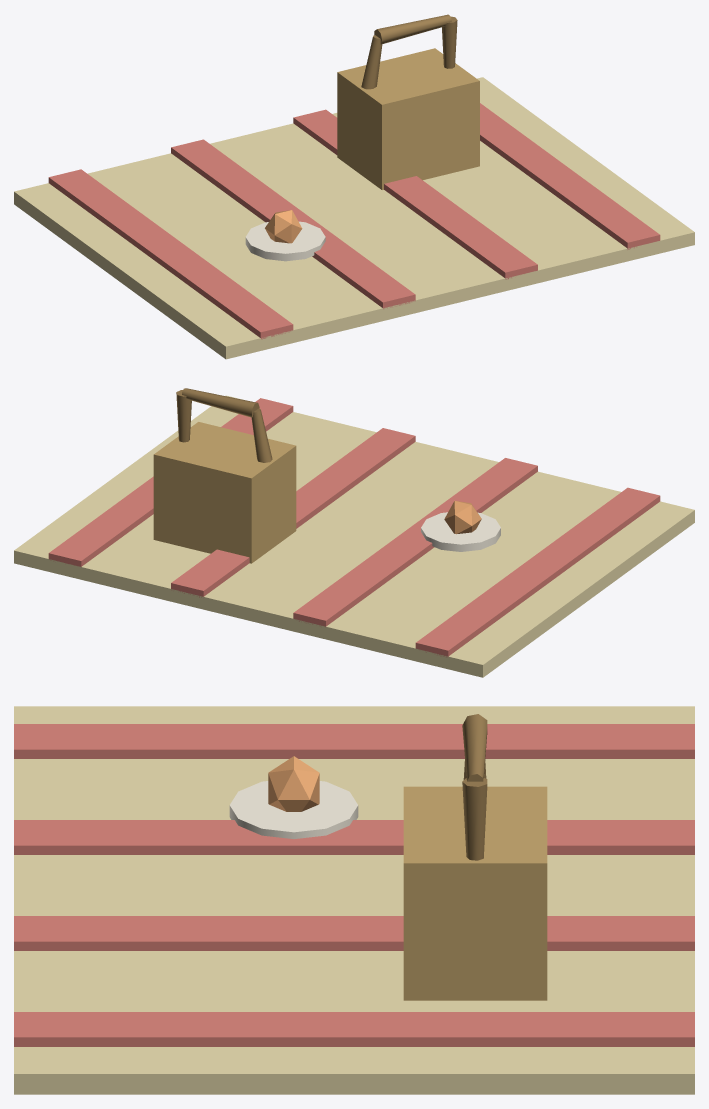
The model's file is ocean-scenery-34.glb.
The picture shows the model from 3 angles, top to bottom: view 1: azimuth 30°, elevation 25°; view 2: azimuth 150°, elevation 25°; view 3: azimuth 270°, elevation 25°; orthographic projection. The views are drawn at different scales.
Parts seen in each view (by area): view 1: Island picnic rest spot; view 2: Island picnic rest spot; view 3: Island picnic rest spot.
Part boxes in pixels (x1,y1,x2,y2): Island picnic rest spot: (14,14,694,359); Island picnic rest spot: (14,388,694,677); Island picnic rest spot: (14,706,694,1094).
Bounding box in the file's own units: 2.3 × 0.7141 × 1.8.
